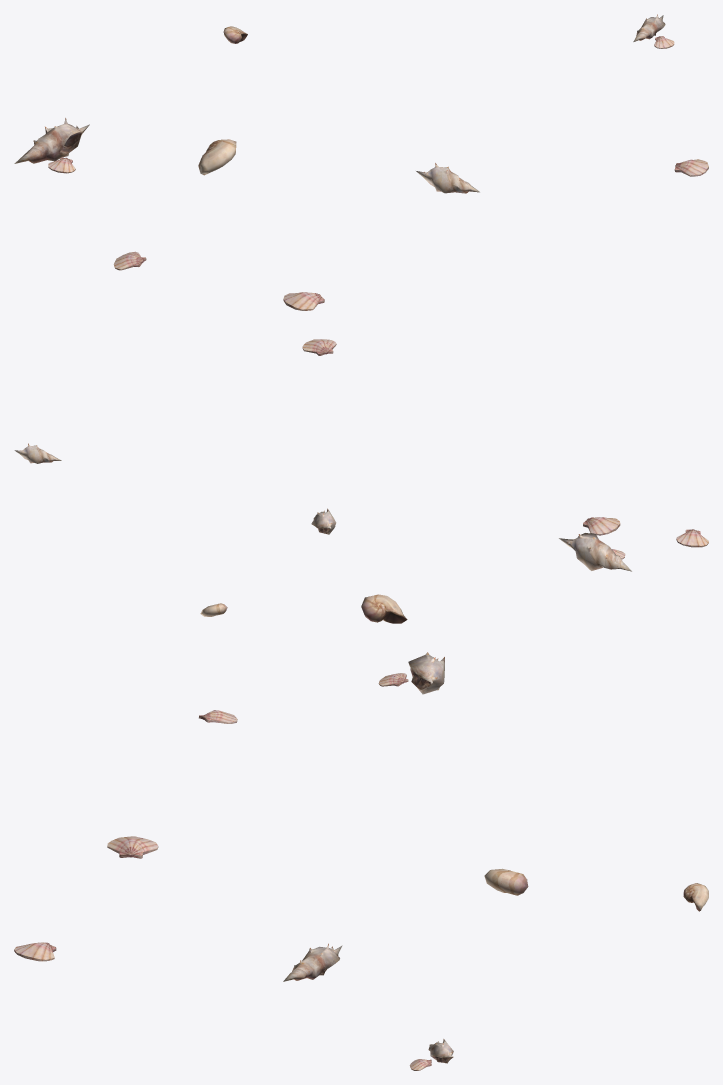
Rendered from Homeworld_Exterior_Common_Thing_Pool_01_E_Lod0.fbx.
3 renders of one model, top to bottom at view 1: azimuth 30°, elevation 25°; view 2: azimuth 150°, elevation 25°; view 3: azimuth 270°, elevation 25°, orthographic. The views are drawn at different scales.
Parts seen in each view (by area): view 1: Homeworld_Exterior_Common_Thing_Pool_01_E_Lod0; view 2: Homeworld_Exterior_Common_Thing_Pool_01_E_Lod0; view 3: Homeworld_Exterior_Common_Thing_Pool_01_E_Lod0.
Part boxes in pixels (bbox=[...]): Homeworld_Exterior_Common_Thing_Pool_01_E_Lod0: bbox=[14, 14, 708, 310]; Homeworld_Exterior_Common_Thing_Pool_01_E_Lod0: bbox=[14, 339, 708, 623]; Homeworld_Exterior_Common_Thing_Pool_01_E_Lod0: bbox=[14, 652, 708, 1070].
Bounding box in the file's own units: 7.7 × 1.32 × 6.07.
